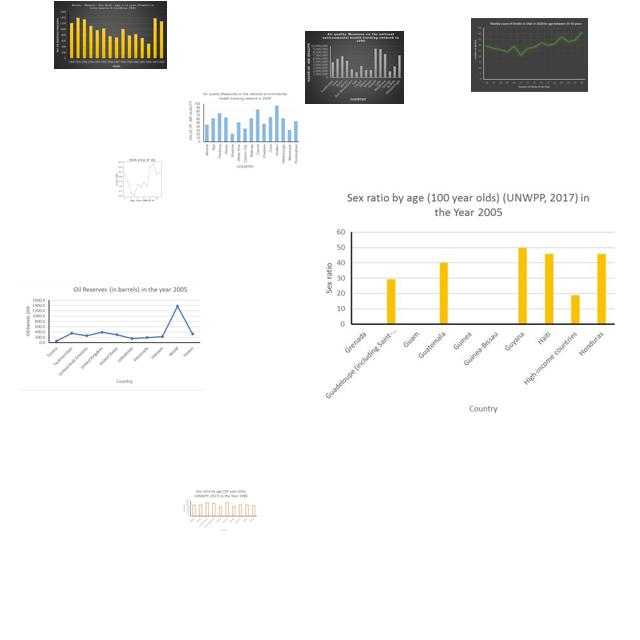Graph: (320, 190, 621, 418), (19, 282, 205, 391), (187, 90, 301, 170), (471, 18, 588, 92), (54, 1, 167, 69), (305, 31, 404, 104), (181, 488, 258, 532), (111, 156, 172, 202)
